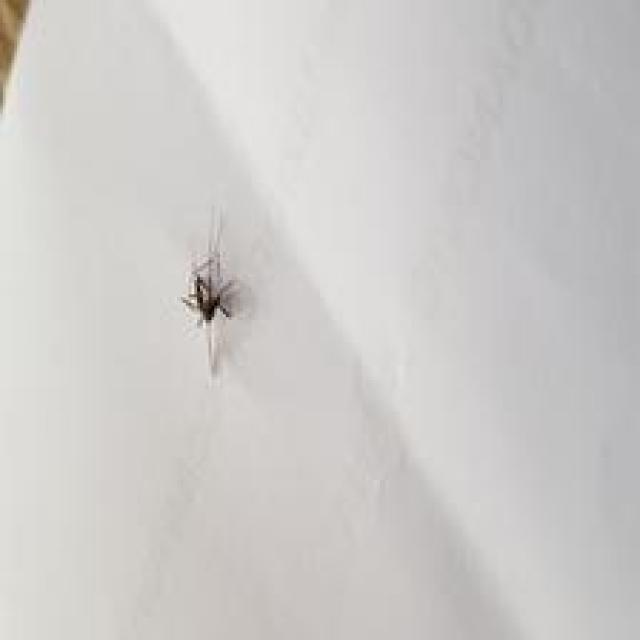Aedes albopictus: (178, 206, 242, 377)
